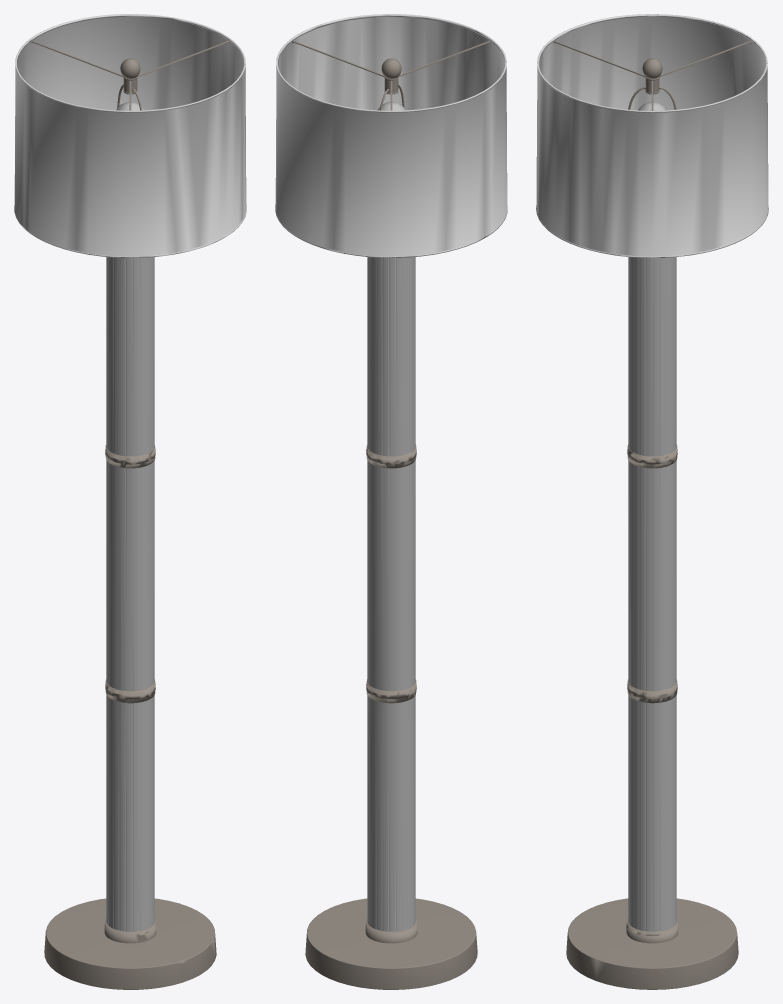
Rendered from B07DBCMTPB.glb.
3 views of the same model, side by side, from view 1: azimuth 30°, elevation 25°; view 2: azimuth 150°, elevation 25°; view 3: azimuth 270°, elevation 25° (orthographic).
Visible parts, largest first — view 1: Root; view 2: Root; view 3: Root.
Part boxes in pixels (box(x1,y1,x2,y2)): Root: box(14, 14, 246, 989); Root: box(275, 14, 507, 989); Root: box(536, 14, 768, 989).
Bounding box in the file's own units: 0.3772 × 1.6 × 0.3774.
1 material, 1 textured.
